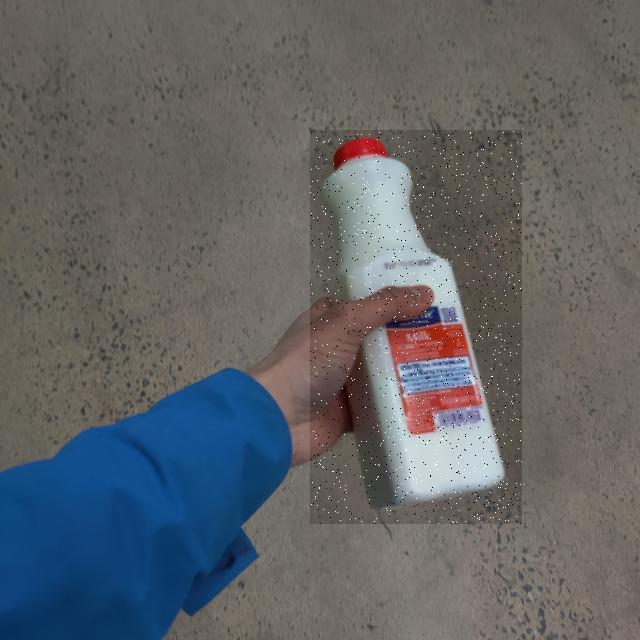milk: (49, 262, 571, 640)
